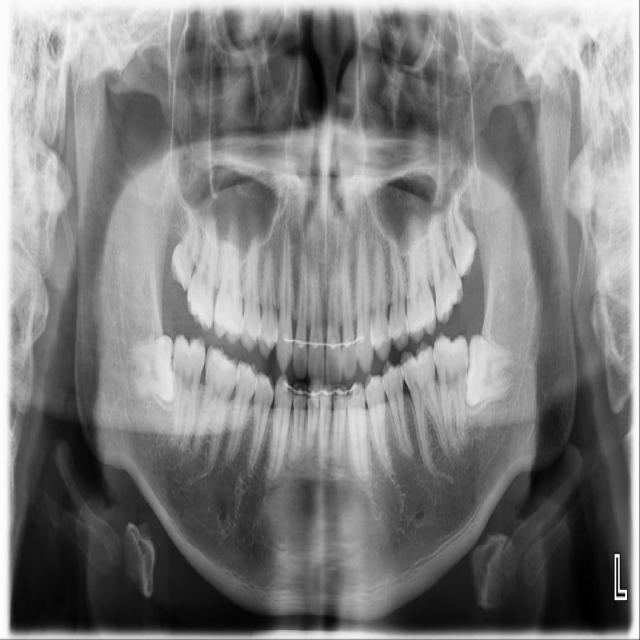impacted tooth: (464, 334, 520, 405), (123, 335, 176, 403)
